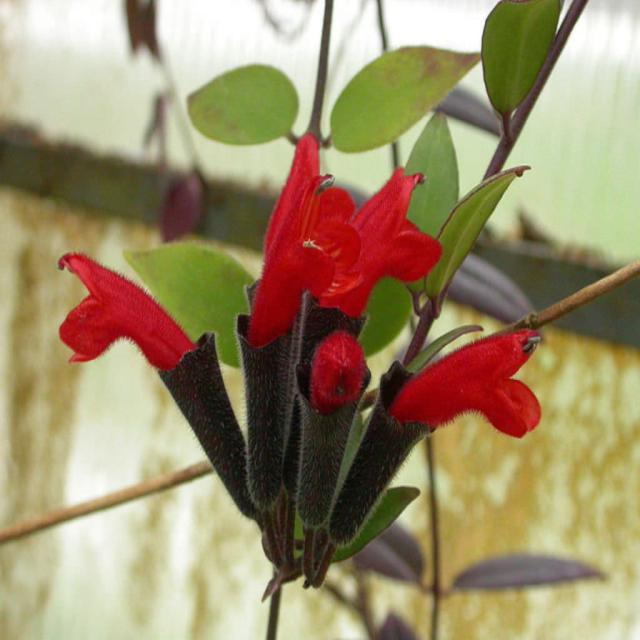Lipstick-Plant: (34, 142, 567, 578)
